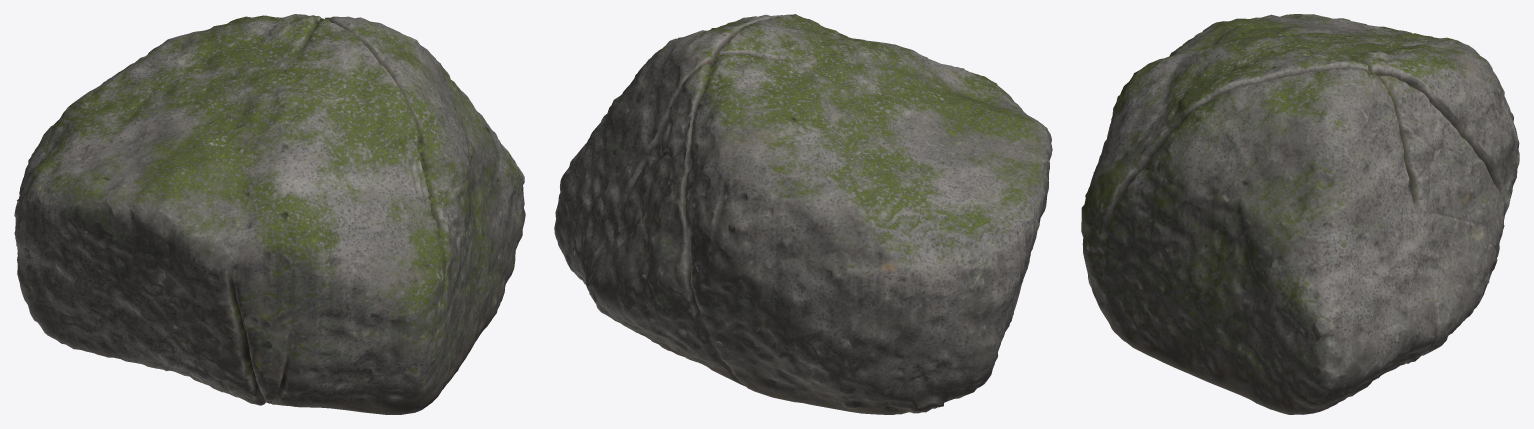
The model's file is balvan_zula_1.glb.
3 views of the same model, side by side, from view 1: azimuth 30°, elevation 25°; view 2: azimuth 150°, elevation 25°; view 3: azimuth 270°, elevation 25° (orthographic). The views are drawn at different scales.
Visible parts, largest first — view 1: balvan_zula_1; view 2: balvan_zula_1; view 3: balvan_zula_1.
Boxes of the visible parts, bbox=[...] form: balvan_zula_1: bbox=[14, 14, 525, 414]; balvan_zula_1: bbox=[554, 14, 1052, 414]; balvan_zula_1: bbox=[1081, 14, 1519, 414].
Bounding box in the file's own units: 2.46 × 1.53 × 2.01.
Materials: 1 (1 with a texture image).
